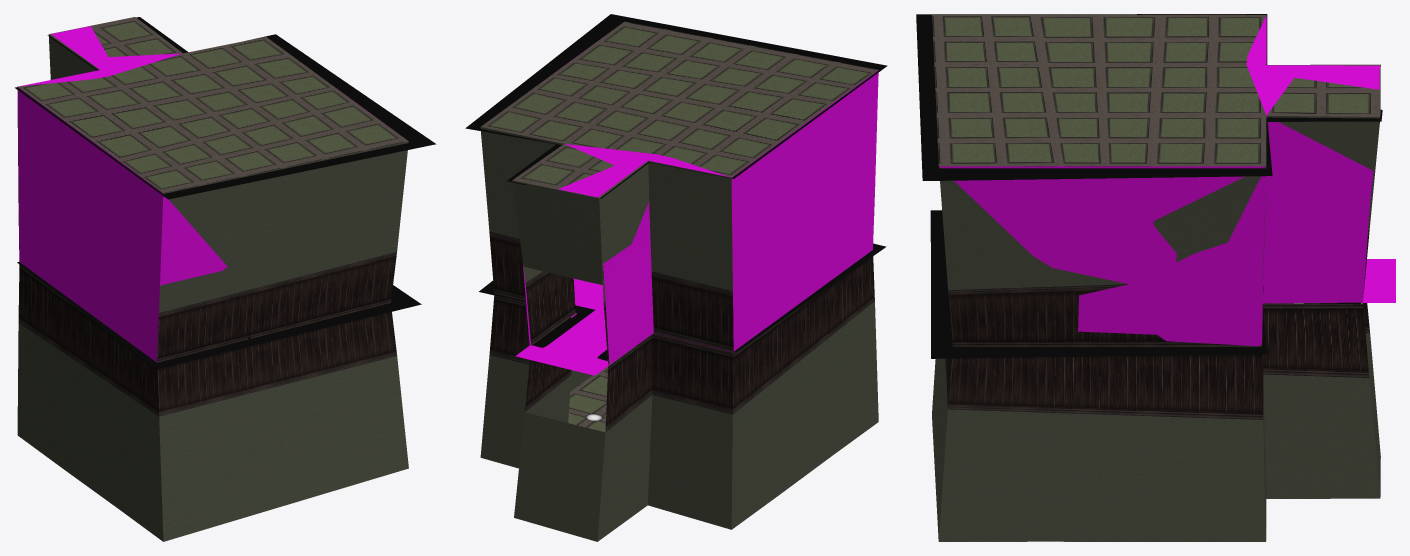
The model's file is office_entrance.fbx.
3 views of the same model, side by side, from view 1: azimuth 30°, elevation 25°; view 2: azimuth 150°, elevation 25°; view 3: azimuth 270°, elevation 25° (orthographic). The views are drawn at different scales.
Parts seen in each view (by area): view 1: wall (×3), wall2, wall1 (×2), Z3a_shadow_top, Z3a_shadow_Ground; view 2: wall (×3), wall2, wall1 (×2), Z3a_shadow_top, floor, wall3ref, Z3a_shadow_Ground; view 3: wall (×3), wall2, wall1 (×2), Z3a_shadow_top, Z3a_shadow_Ground, floor.
Part boxes in pixels (x1,y1,x2,y2): wall (×3): (17, 26, 408, 541); wall2: (18, 17, 408, 193); wall1 (×2): (18, 201, 396, 416); Z3a_shadow_top: (15, 17, 436, 199); Z3a_shadow_Ground: (17, 262, 421, 369); wall (×3): (480, 46, 878, 541); wall2: (481, 21, 878, 197); wall1 (×2): (489, 204, 874, 431); Z3a_shadow_top: (465, 14, 887, 198); floor: (515, 278, 609, 375); wall3ref: (482, 366, 727, 528); Z3a_shadow_Ground: (479, 243, 886, 361); wall (×3): (932, 15, 1380, 541); wall2: (932, 14, 1380, 166); wall1 (×2): (945, 230, 1369, 419); Z3a_shadow_top: (916, 14, 1382, 180); Z3a_shadow_Ground: (930, 210, 1360, 358); floor: (1363, 259, 1395, 302).
Size of what is drawn, in the model's own units: 51.24 by 61.79 by 67.1.
